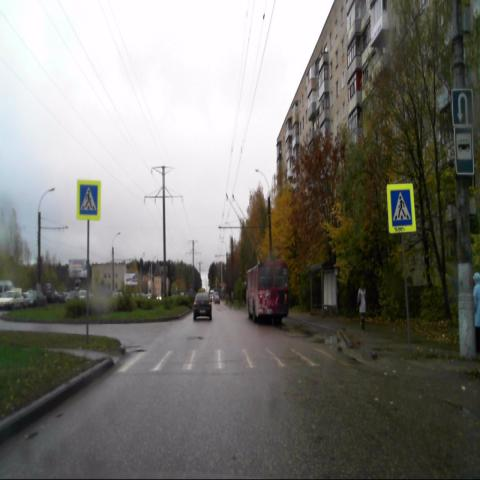6_3_1: (452, 89, 474, 126)
